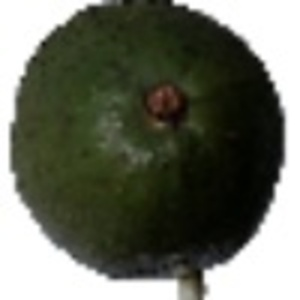abacate: (9, 4, 291, 277)
